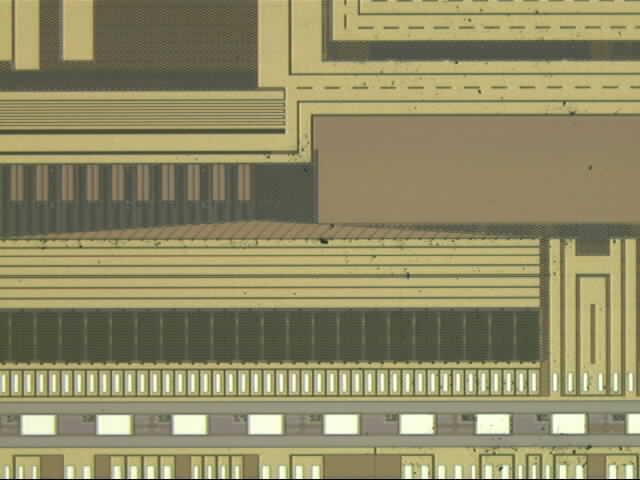PO CONTAMINATION: (32, 1, 638, 477)
